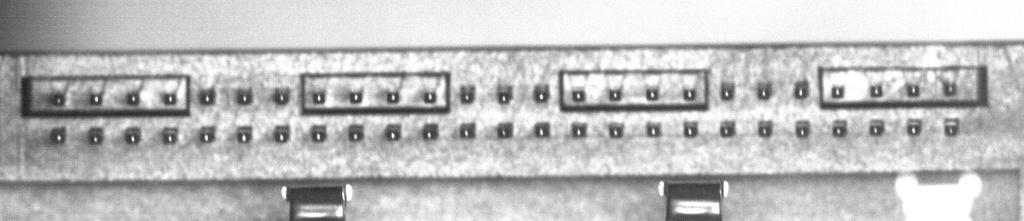pin_ok: (235, 87, 253, 105), (533, 83, 550, 102), (496, 85, 513, 104), (943, 117, 960, 136), (793, 80, 810, 99), (272, 87, 290, 104), (49, 126, 66, 144), (161, 127, 178, 145), (459, 84, 475, 103), (124, 127, 141, 144), (347, 124, 364, 141), (533, 121, 550, 138), (422, 123, 439, 140), (869, 118, 885, 136), (199, 87, 215, 105), (87, 127, 103, 145), (832, 119, 848, 137), (720, 119, 736, 137), (795, 119, 811, 137), (756, 82, 772, 100), (907, 118, 923, 135), (199, 126, 215, 143), (570, 122, 587, 138), (757, 120, 773, 137), (683, 120, 699, 137), (496, 122, 513, 138), (273, 126, 289, 143), (459, 122, 475, 139), (310, 126, 327, 142), (385, 124, 401, 141), (720, 82, 735, 100), (645, 121, 661, 137), (608, 123, 624, 138), (237, 127, 252, 143), (942, 80, 956, 96), (830, 85, 845, 99), (682, 87, 697, 101), (906, 83, 920, 97), (311, 90, 325, 104), (423, 90, 437, 104), (126, 91, 140, 105), (870, 83, 883, 97), (645, 87, 659, 100), (608, 88, 622, 101), (571, 89, 585, 102), (386, 90, 400, 103), (349, 90, 363, 103), (163, 92, 177, 105), (88, 92, 102, 105), (52, 92, 66, 105)
